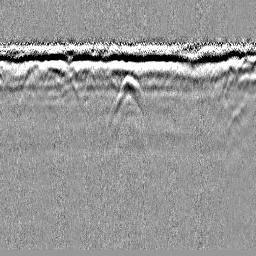cavity: (113, 75, 145, 114)
